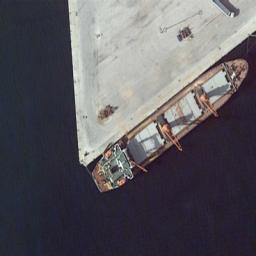boat: (85, 55, 253, 199)
